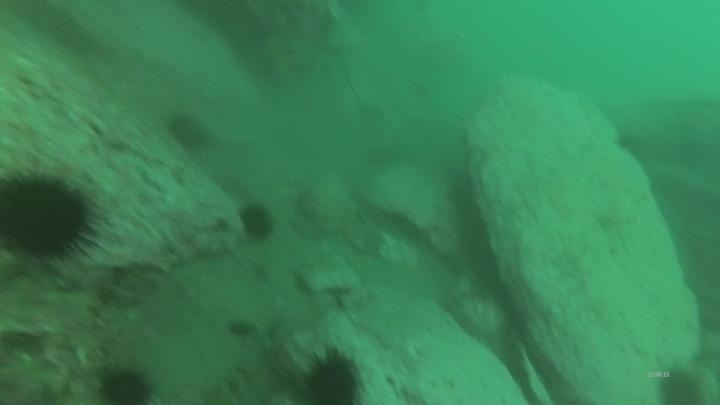echinus: (0, 167, 99, 263), (300, 346, 366, 405), (96, 365, 155, 404), (165, 110, 212, 154), (655, 366, 705, 405), (236, 201, 277, 244), (614, 130, 652, 165)
